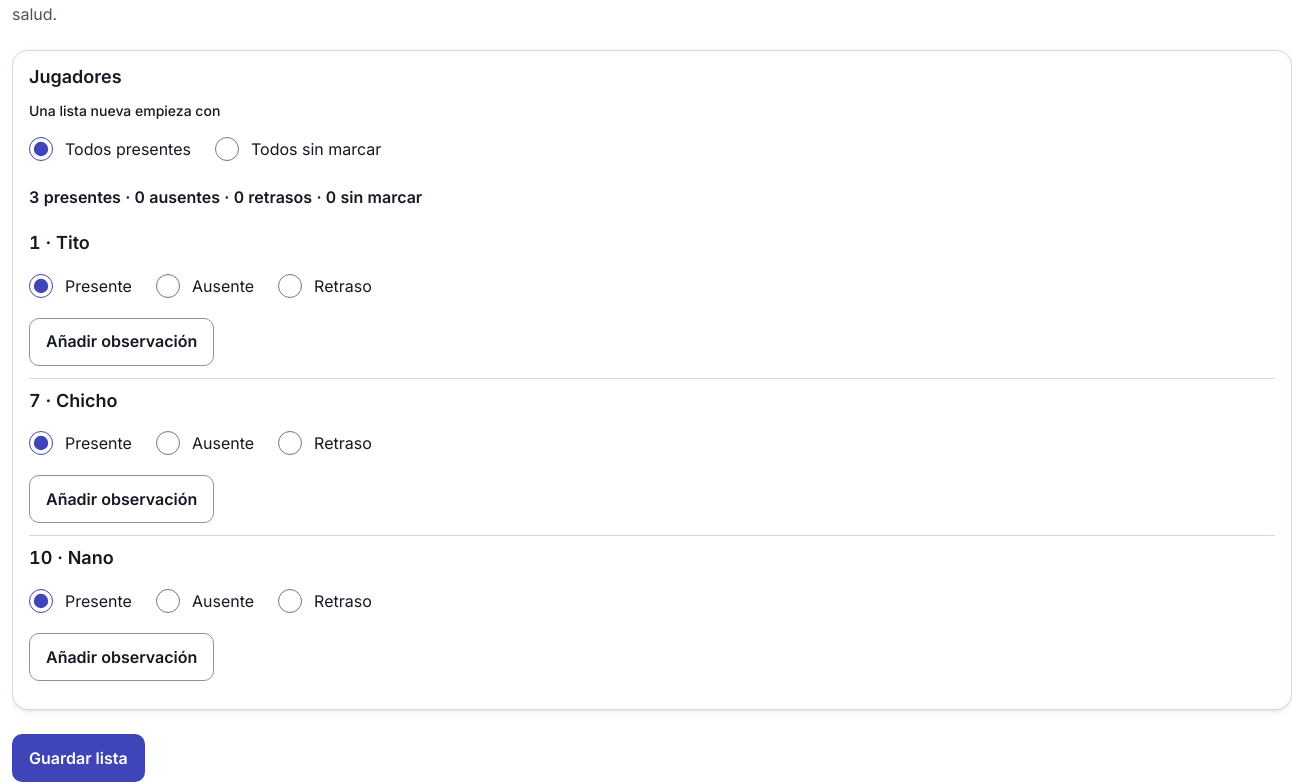
Test: ListaPage · guardar › mientras guarda dice «Guardando…» y no responde a otro toque
The image size is (1292, 782).
(page scrolled)
Click the button "Guardar lista".
click(78, 758)  # box [12, 734, 145, 781]
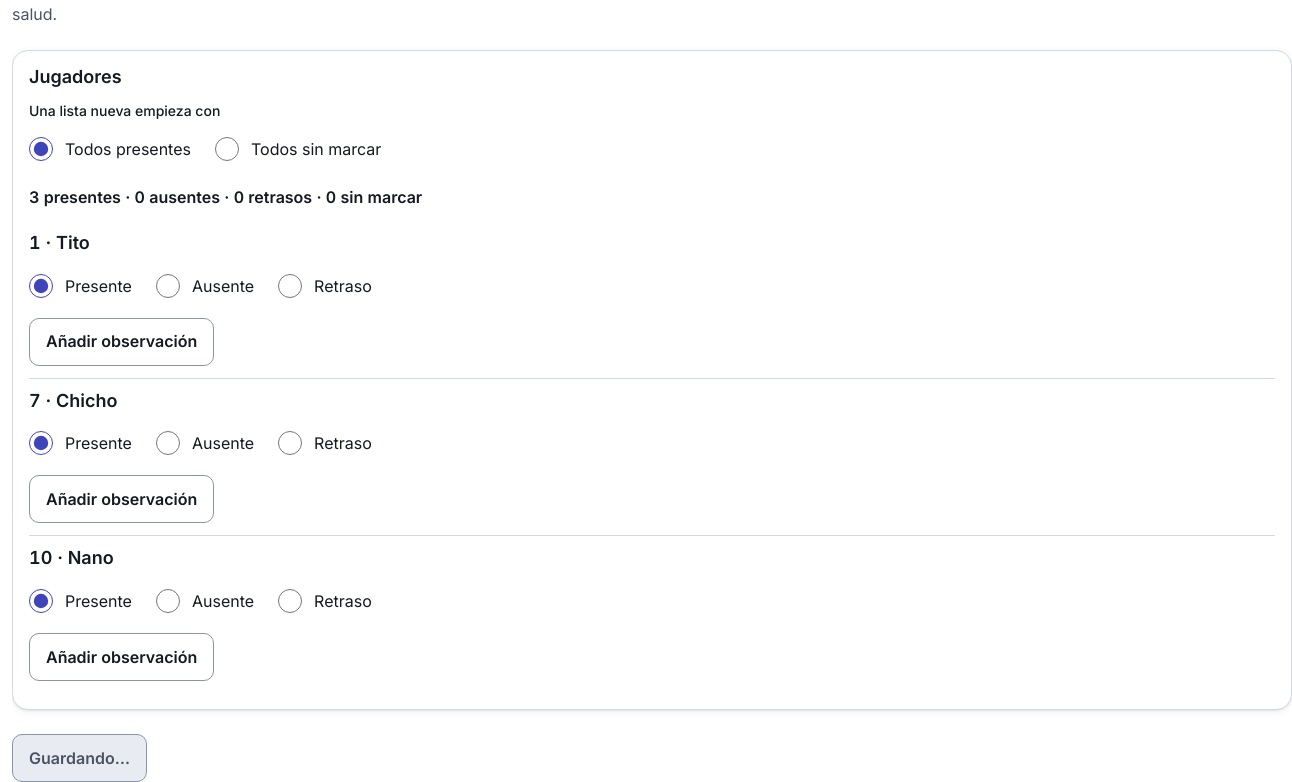
Expected: the button "Guardando…" is disabled
Click the button "Guardando…".
click(80, 758)  # box [12, 734, 147, 781]
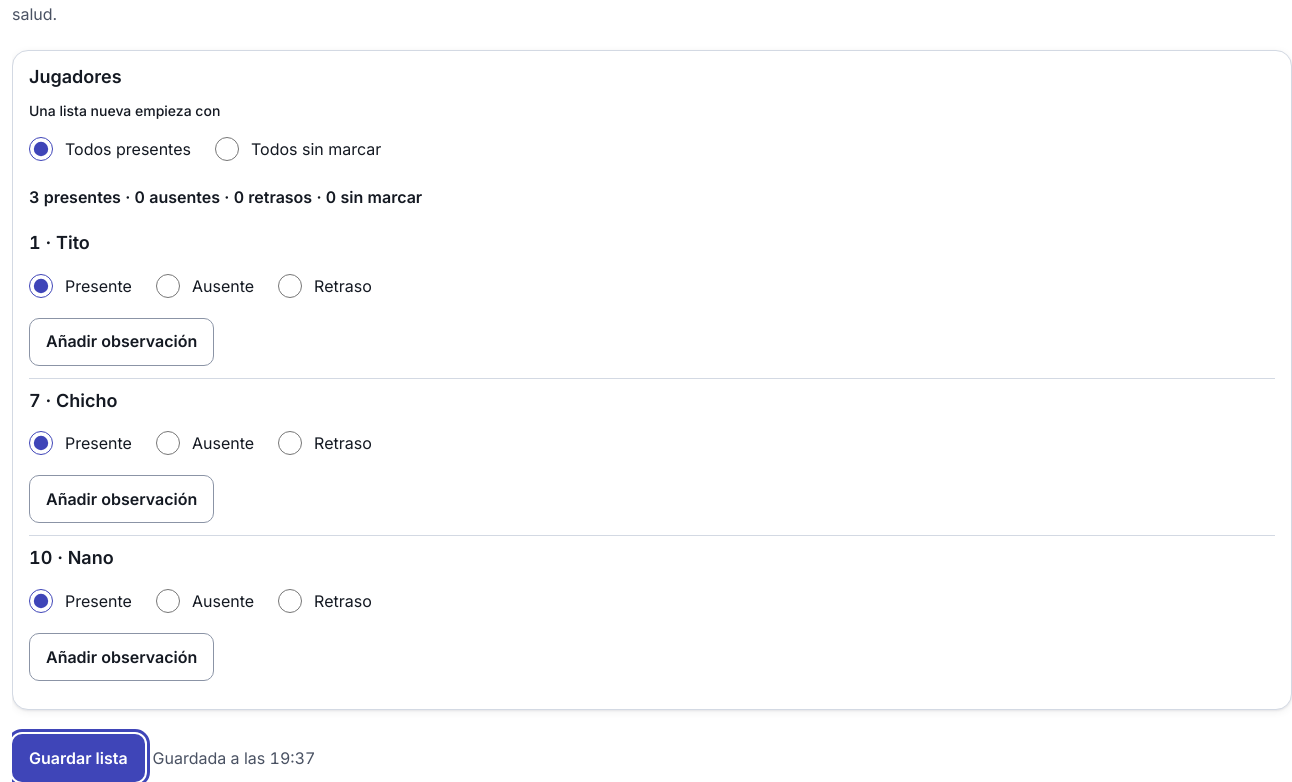
Expected: the button "Guardar lista" is enabled, [12, 734, 145, 781]
